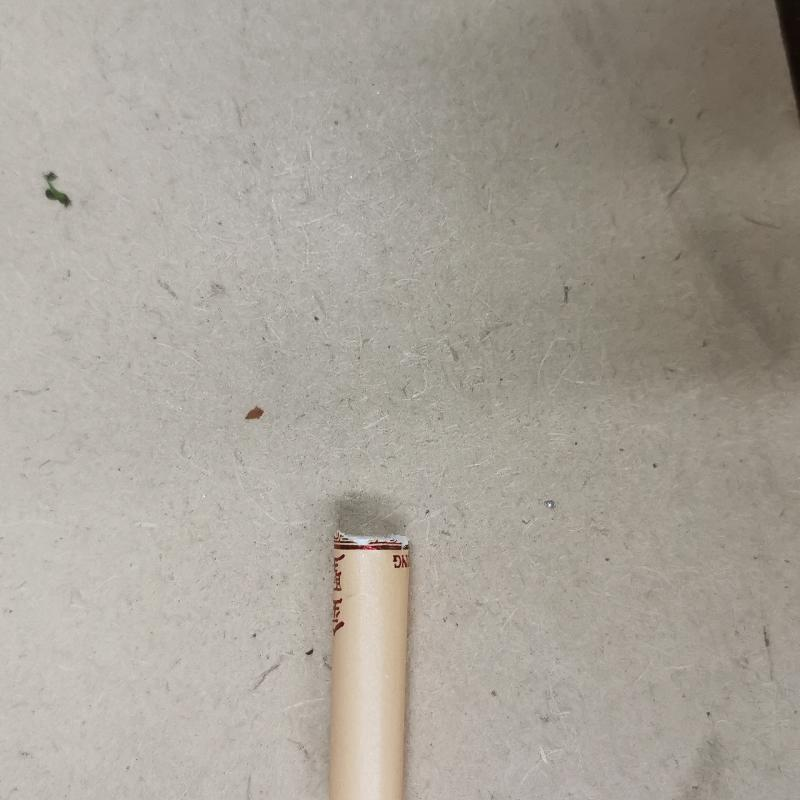cigarette: (314, 521, 418, 799)
